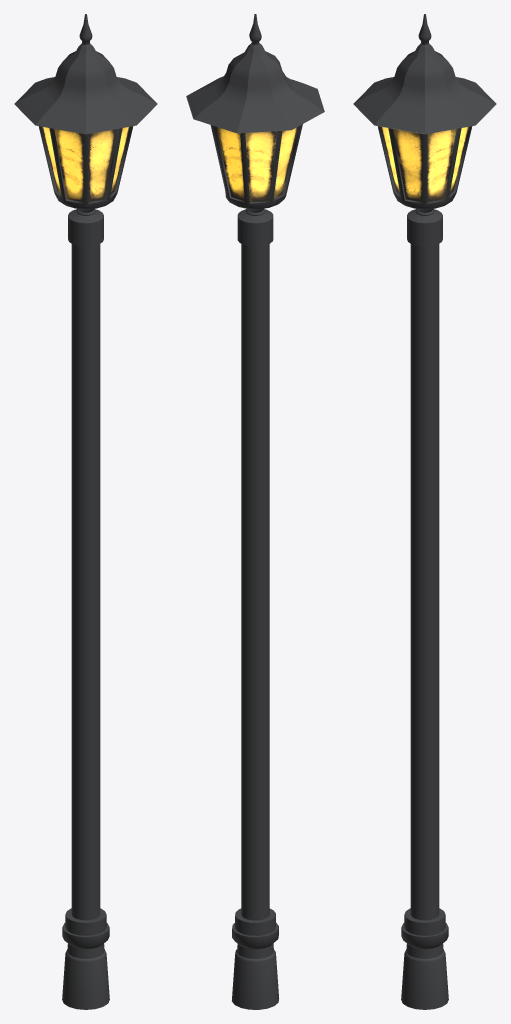
Rendered from street_lamp.glb.
3 renders of one model, left to right at view 1: azimuth 90°, elevation 25°; view 2: azimuth 210°, elevation 25°; view 3: azimuth 270°, elevation 25°, orthographic.
Parts seen in each view (by area): view 1: street lamp 3_0; view 2: street lamp 3_0; view 3: street lamp 3_0.
Part boxes in pixels (left/top/right/bottom): street lamp 3_0: left=14, top=14, right=157, bottom=1009; street lamp 3_0: left=186, top=14, right=324, bottom=1009; street lamp 3_0: left=353, top=14, right=496, bottom=1009.
Bounding box in the file's own units: 0.3967 × 3 × 0.3967.
Materials: 1 (1 with a texture image).
